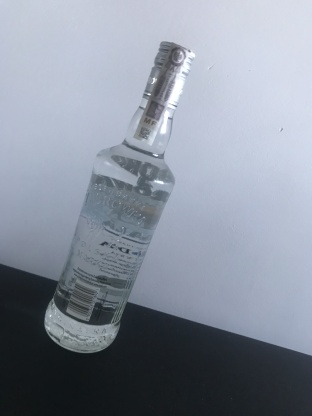nakretka: (140, 38, 197, 113)
